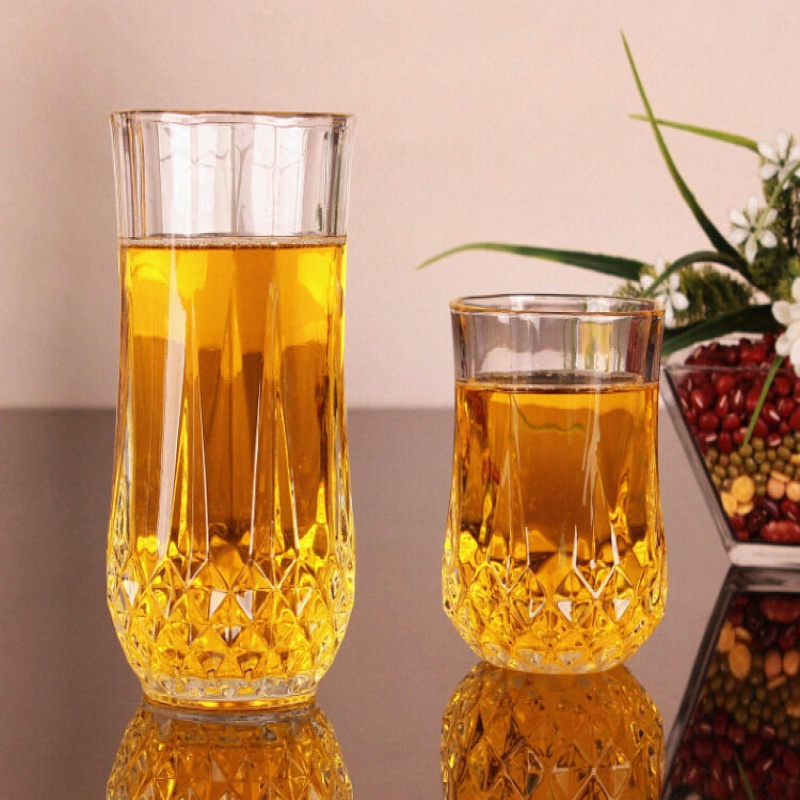whiskey: (92, 110, 360, 704), (432, 299, 666, 672)
